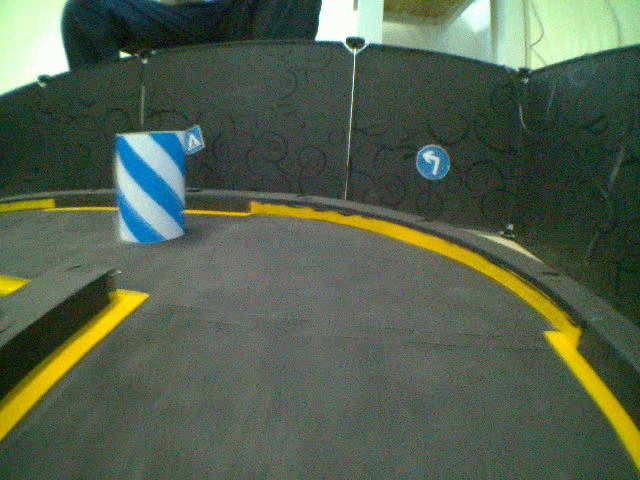bucket: (110, 129, 190, 247)
